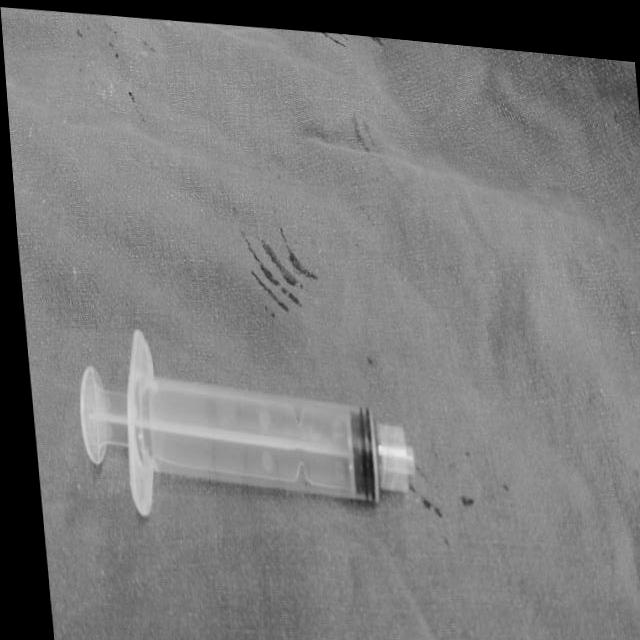Pathological: (0, 0, 639, 639)
Sharps: (77, 327, 415, 516)
